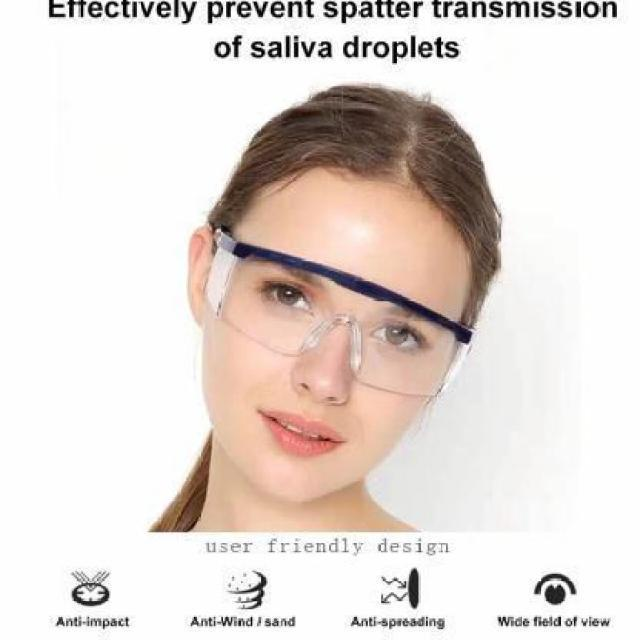Goggles: (200, 209, 502, 405)
